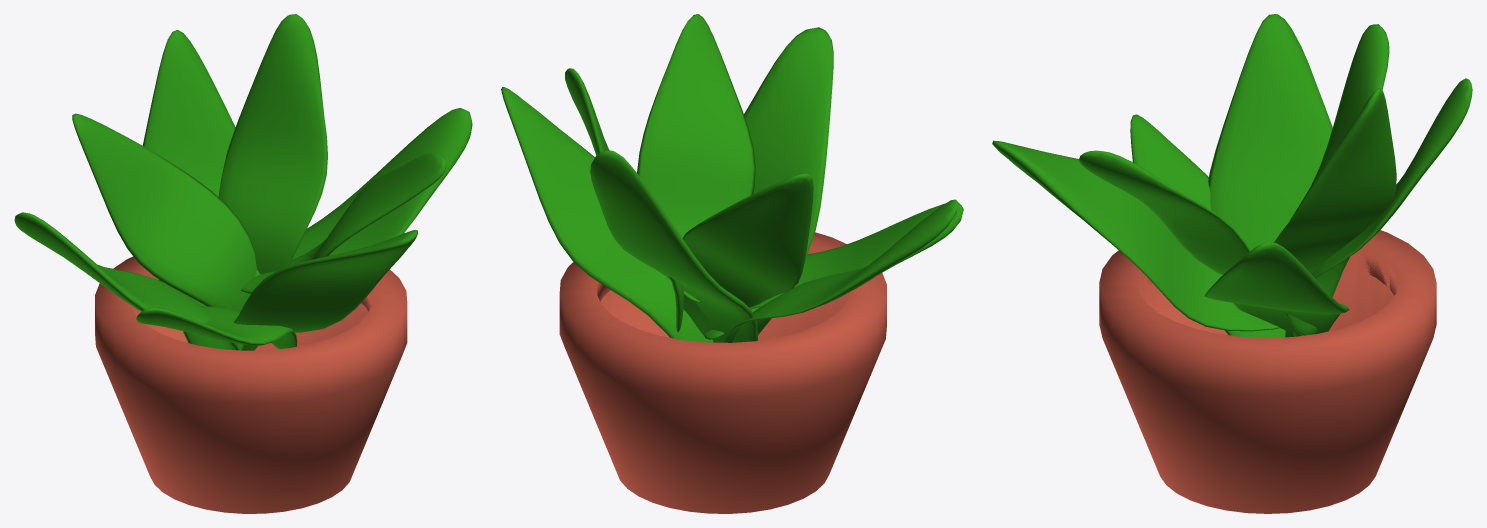
File: Suculenta.fbx
3 views of the same model, side by side, from view 1: azimuth 30°, elevation 25°; view 2: azimuth 150°, elevation 25°; view 3: azimuth 270°, elevation 25° (orthographic). The views are drawn at different scales.
Parts seen in each view (by area): view 1: Plane.006, Circle; view 2: Plane.006, Circle; view 3: Plane.006, Circle.
Boxes of the visible parts, bbox=[...] form: Plane.006: bbox=[14, 14, 472, 350]; Circle: bbox=[95, 256, 407, 513]; Plane.006: bbox=[501, 14, 963, 342]; Circle: bbox=[559, 232, 886, 513]; Plane.006: bbox=[992, 14, 1472, 337]; Circle: bbox=[1099, 230, 1436, 513].
Bounding box in the file's own units: 63.68 × 54.43 × 55.47.
